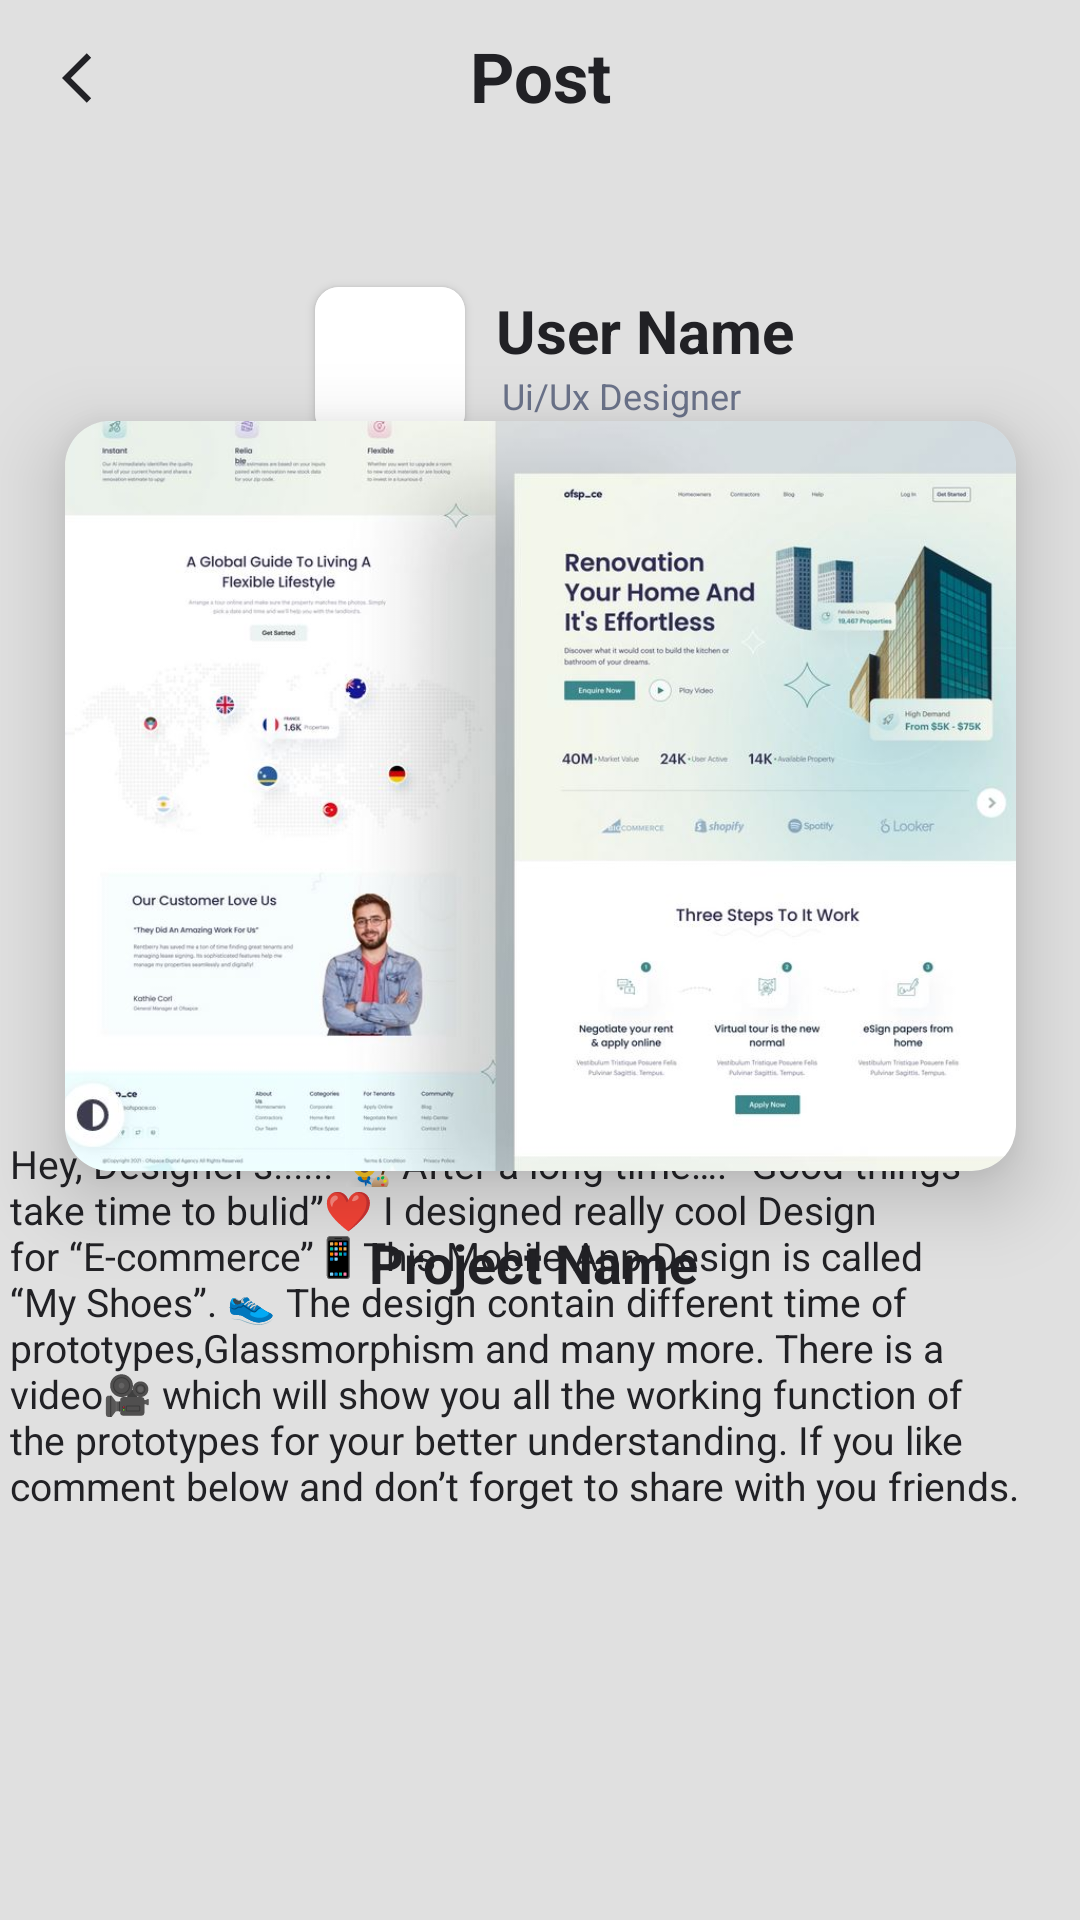

Icon click points for this 1080 x 1920 phone screenshot, format [x,y]:
back: [76,78]
